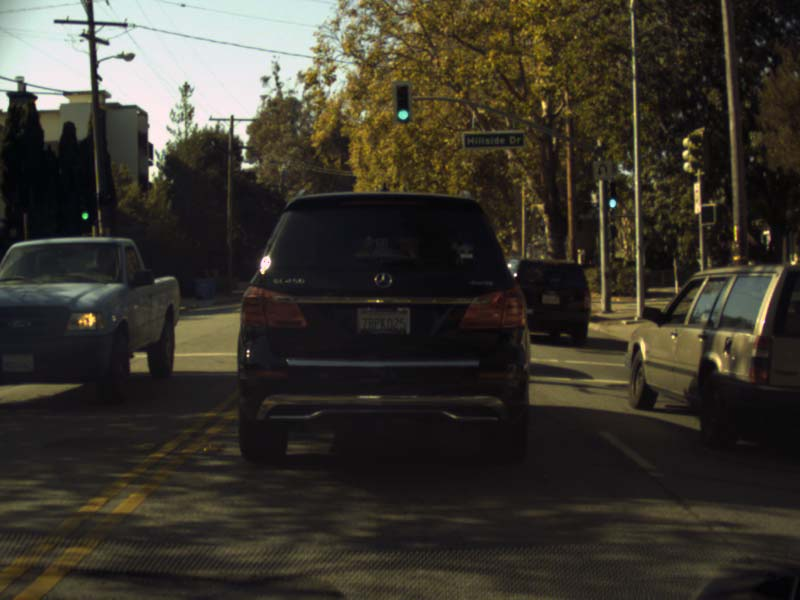Green: (394, 83, 409, 124), (78, 195, 89, 222), (607, 183, 615, 208)
